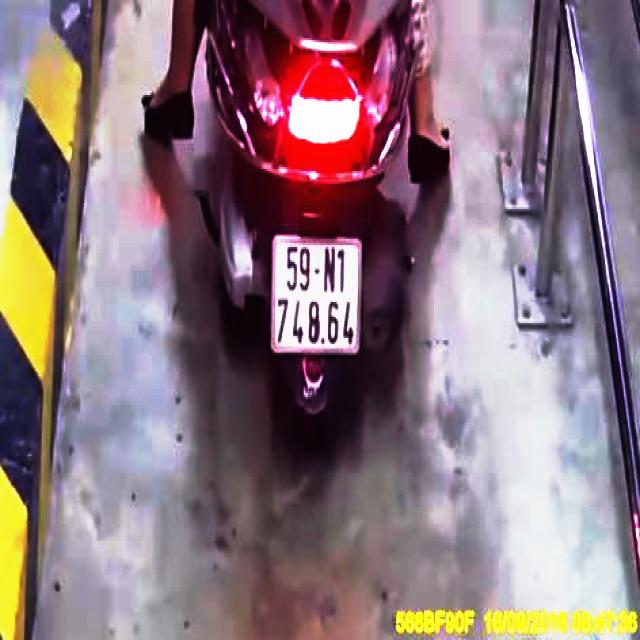license_plate: (274, 234, 362, 354)
